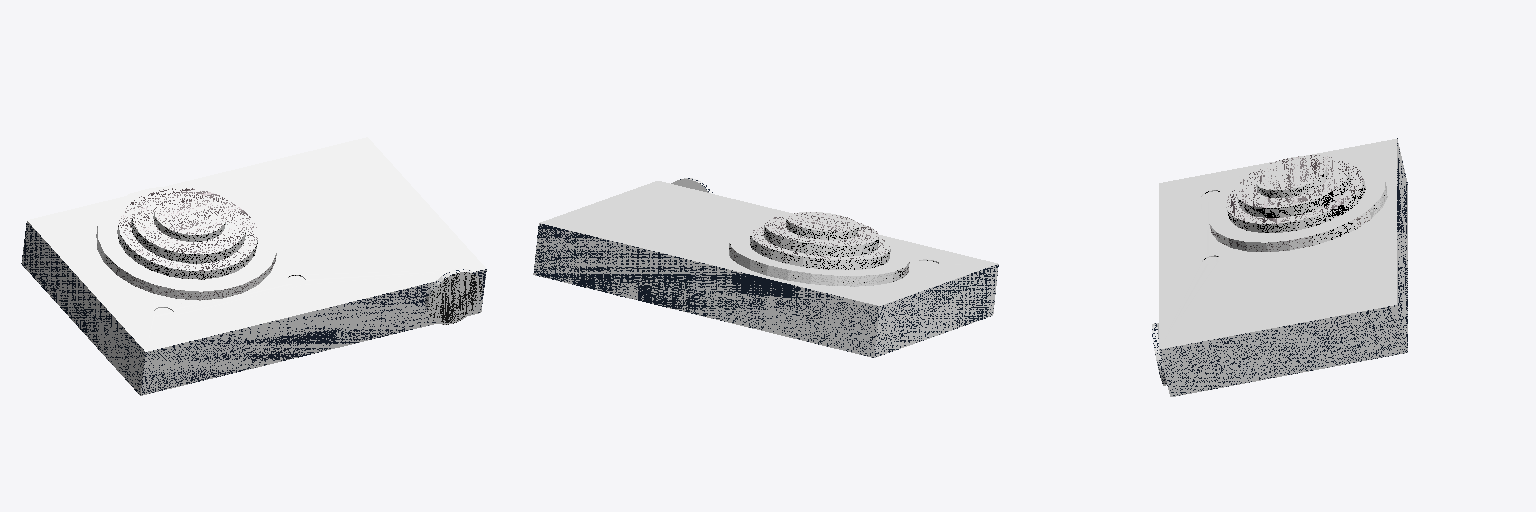
3 renders of one model, left to right at view 1: azimuth 30°, elevation 25°; view 2: azimuth 150°, elevation 25°; view 3: azimuth 270°, elevation 25°, orthographic.
Visible parts, largest first — view 1: mesh1_mesh1-geometry, mesh2_mesh2-geometry; view 2: mesh1_mesh1-geometry; view 3: mesh1_mesh1-geometry.
Part boxes in pixels (x1,y1,x2,y2): mesh1_mesh1-geometry: (21, 137, 486, 395); mesh2_mesh2-geometry: (425, 269, 482, 324); mesh1_mesh1-geometry: (533, 181, 998, 357); mesh1_mesh1-geometry: (1159, 138, 1407, 396).
Bounding box in the file's own units: 0.125 × 0.0417 × 0.0816.
59 materials, 29 textured.